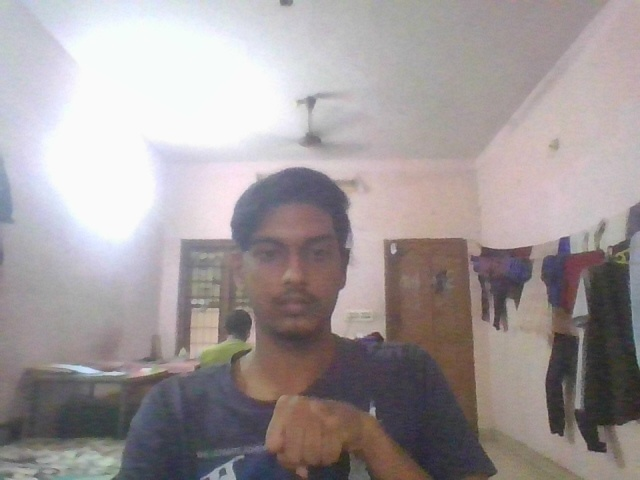yes: (259, 388, 380, 480)
